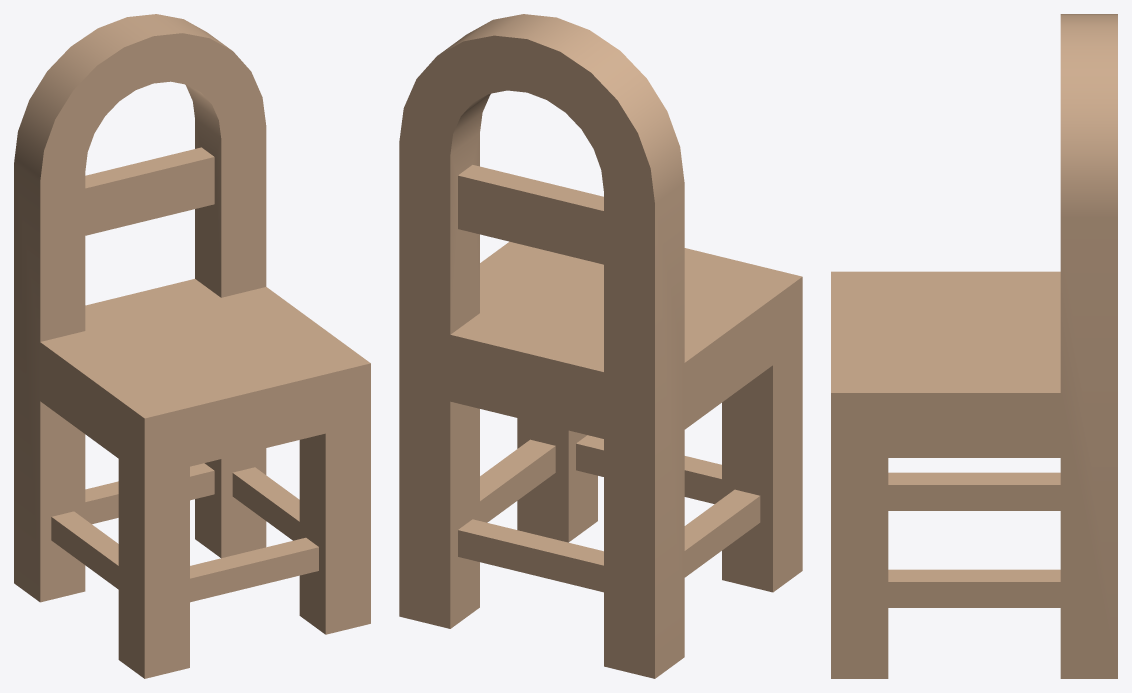
The model's file is chairRounded.glb.
The picture shows the model from 3 angles, left to right: view 1: azimuth 30°, elevation 25°; view 2: azimuth 150°, elevation 25°; view 3: azimuth 270°, elevation 25°; orthographic projection. The views are drawn at different scales.
Parts seen in each view (by area): view 1: chairRounded; view 2: chairRounded; view 3: chairRounded.
Part boxes in pixels (x1,y1,x2,y2): chairRounded: (14,14,370,678); chairRounded: (399,14,802,678); chairRounded: (831,14,1117,678).
Bounding box in the file's own units: 0.2 × 0.455 × 0.2.
